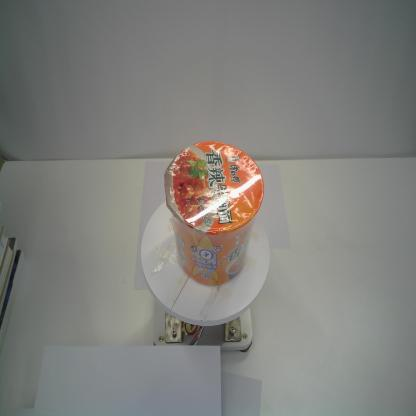Instant Noodles: (161, 138, 265, 287)
